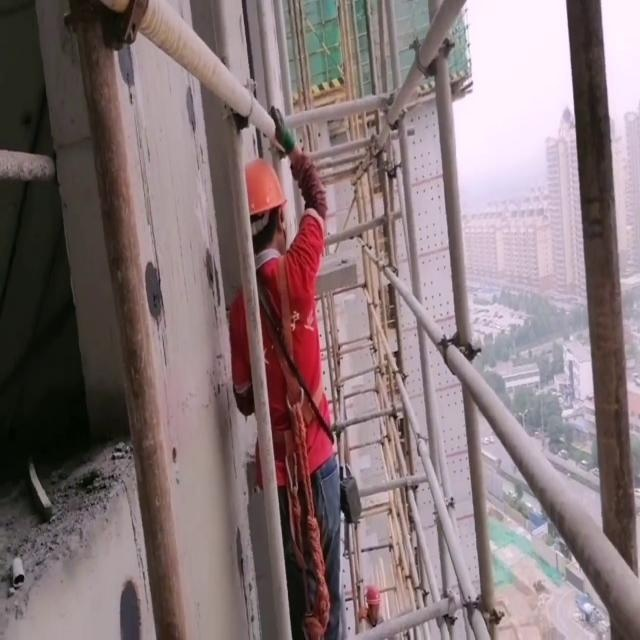Arnes_seguridad: (243, 244, 328, 470)
